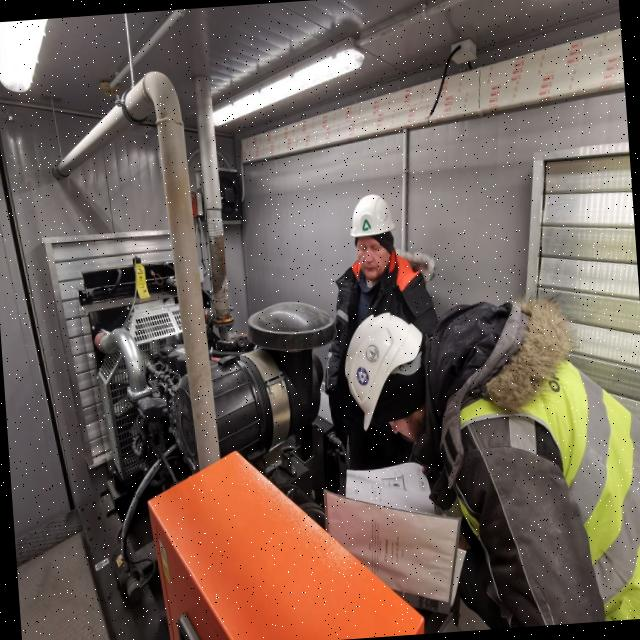Helmet: (343, 311, 431, 432), (348, 192, 396, 241)
Jacket: (460, 332, 640, 626)
NoJacket: (336, 259, 416, 316)
